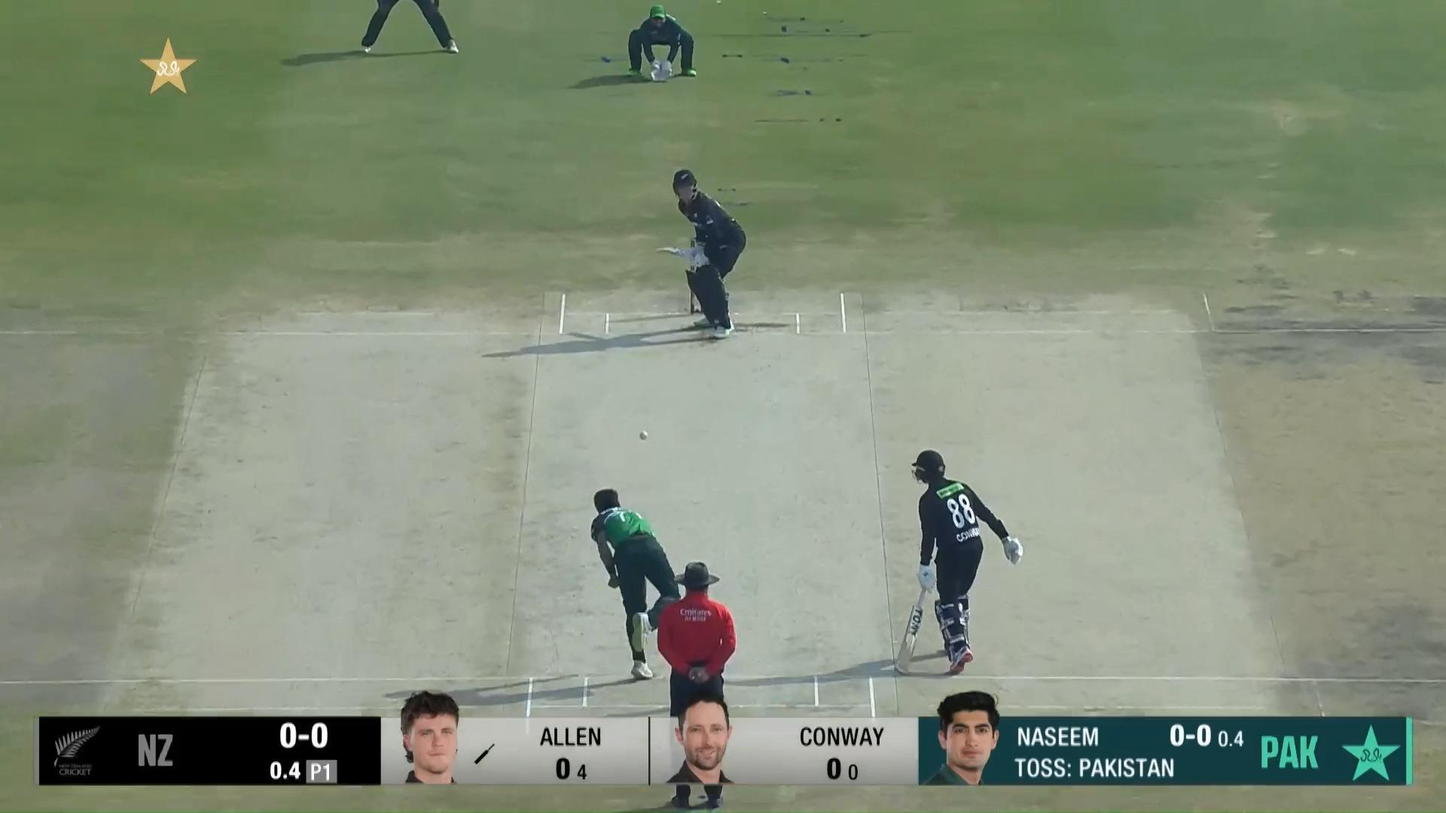BM 1: (656, 167, 747, 342)
BO: (583, 482, 690, 684)
